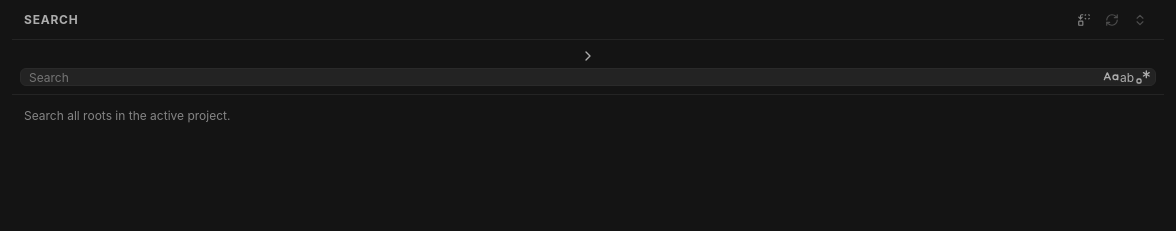
Test: Workspace Search view › projects comma-separated include and exclude filters into native Search
The width and height of the screenshot is (1176, 231).
Type "needle" into the search field named "Search text" at x=564, y=77, box [29,69,1099,85]
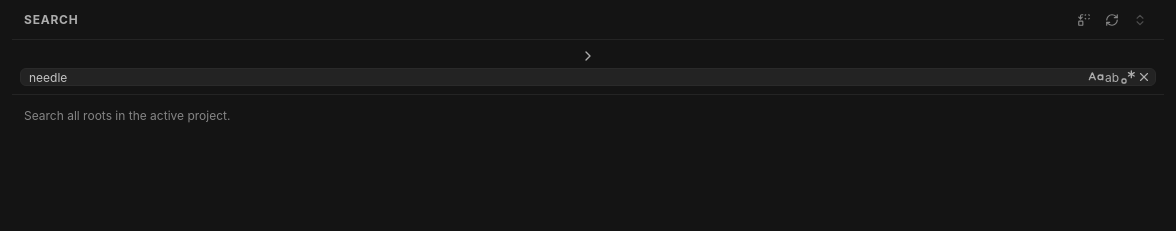
Click the button named "Show Search filters" at x=588, y=56, box [20,48,1156,64]
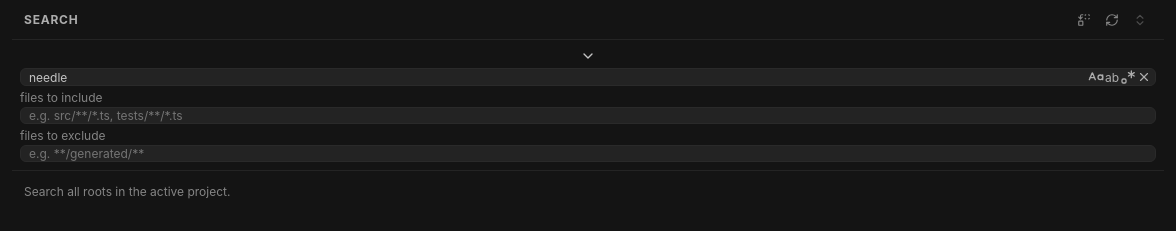
Type "src/**/*.ts, tests/**/*.ts" into the field labelled "files to include" at x=588, y=116, box [20,107,1156,124]
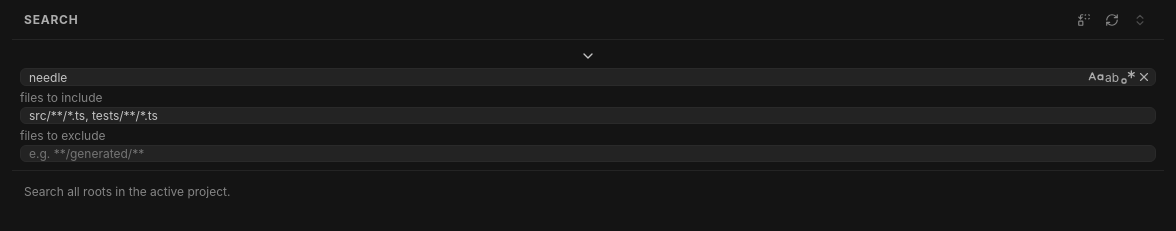
Type "**/generated/**" into the field labelled "files to exclude" at x=588, y=154, box [20,145,1156,162]
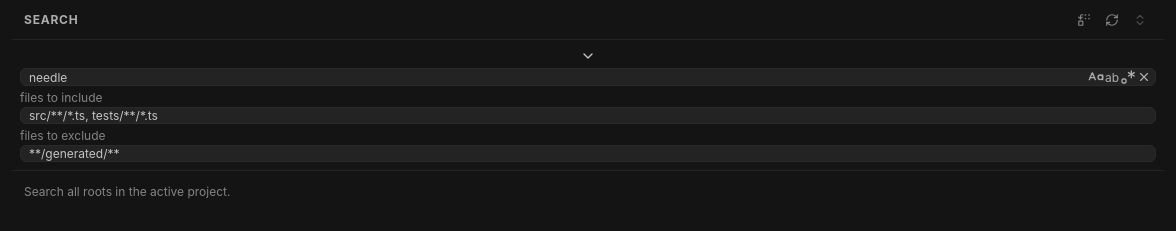
Submit the form named "Search text", box [12,40,1164,171]
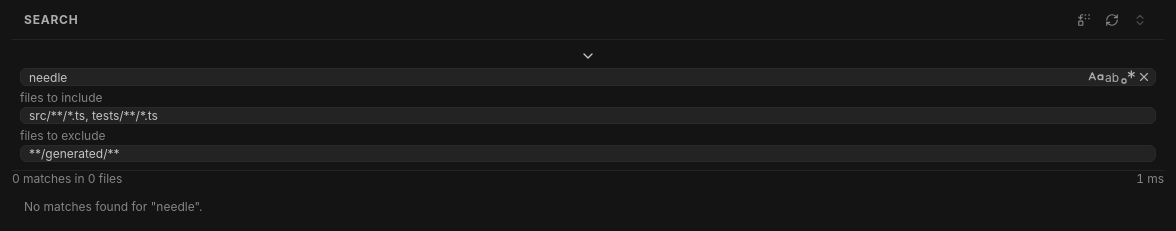
Check: the text "No matches found for \"needle\"." is shown, box [24,199,202,214]
